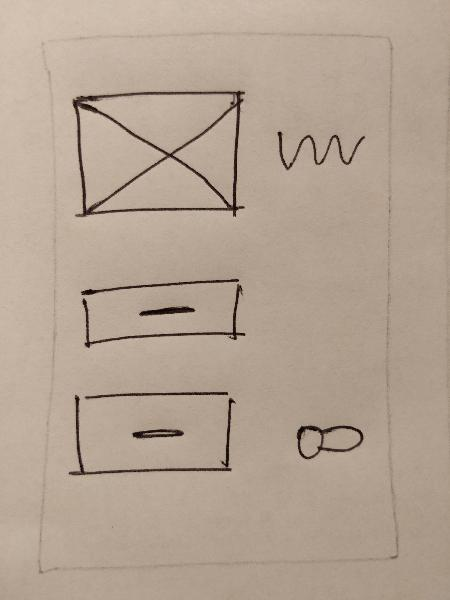button: (66, 384, 239, 478), (74, 279, 250, 352)
image: (67, 90, 249, 222)
switch: (285, 418, 370, 466)
text: (268, 120, 370, 178)
